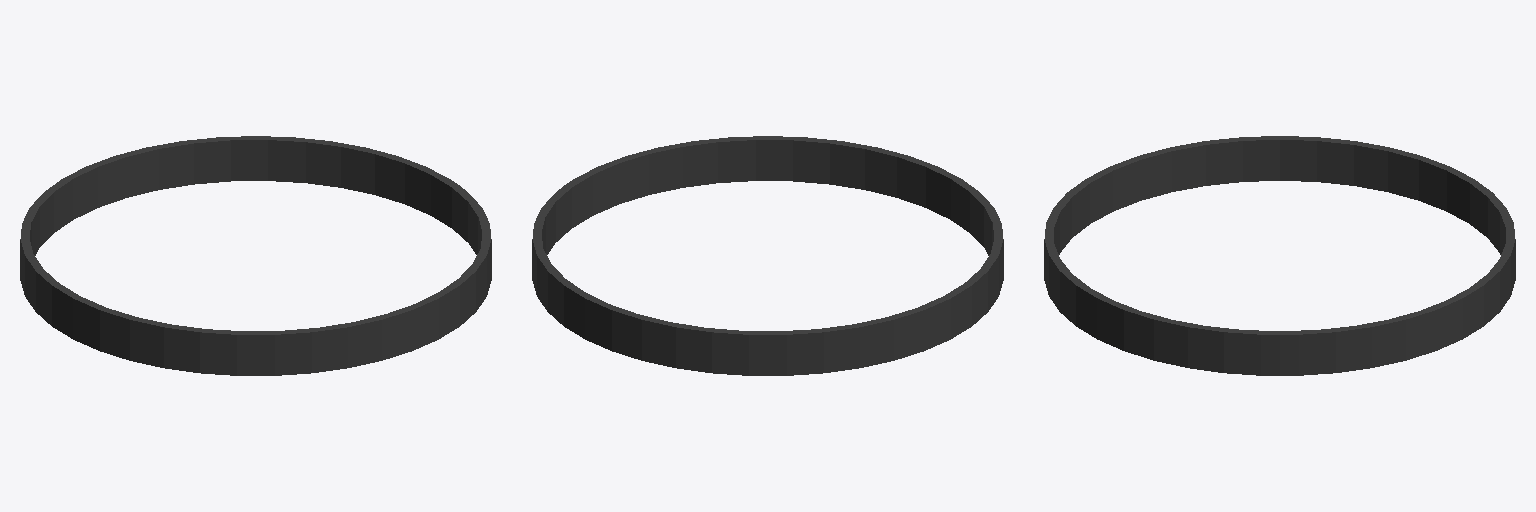
URDF robot description (part1):
<?xml version="1.0" encoding="utf-8"?>
<!-- This URDF was automatically created by SolidWorks to URDF Exporter! Originally created by [author] ([email redacted])
     Commit Version: 1.5.1-0-g916b5db  Build Version: 1.5.7152.31018
     For more information, please see http://wiki.ros.org/sw_urdf_exporter -->
<robot name="part1">
  <link name="ring">
  <contact>
      <lateral_friction value="0.15"/>
      <angular_friction value="0.1"/>
  </contact>
    <inertial>
      <origin
        xyz="0 0.005"
        rpy="0 0 0" />
      <mass value="0.019132" />
      <inertia
        ixx="9.8734E-05"
        ixy="0"
        ixz="0"
        iyy="9.8734E-05"
        iyz="0"
        izz="0.00019715" />
    </inertial>
    <visual>
      <origin
        xyz="0 0 0"
        rpy="0 0 0" />
      <geometry>
        <mesh
          filename="../meshes/20mm_ring.STL" scale="0.93 0.93 0.93" />
      </geometry>
      <material
        name="">
        <color
          rgba="0.298039215686275 0.298039215686275 0.298039215686275 1" />
      </material>
    </visual>
    <collision>
      <origin
        xyz="0 0 0"
        rpy="0 0 0" />
      <geometry>
        <mesh
          filename="../meshes/20mm_ring.obj" scale="1 1 1" />
      </geometry>
    </collision>
  </link>
</robot>

--- Facts derived from the render (not from the file) ---
The picture shows the robot from 3 angles, left to right: view 1: azimuth 30°, elevation 25°; view 2: azimuth 150°, elevation 25°; view 3: azimuth 270°, elevation 25°; orthographic projection.
Model part1 with 1 links and 0 joints (none), rooted at ring, posed all joints at 0.
Visible links, largest first — view 1: ring; view 2: ring; view 3: ring.
Link boxes in pixels (x1,y1,x2,y2): ring: (20, 136, 491, 375); ring: (532, 136, 1003, 375); ring: (1044, 136, 1515, 375).
Bounding box of the posed robot: 0.1934 × 0.1933 × 0.0186 m (x, y, z).
Meshes: 1 distinct files referenced, 1 mesh visuals loaded (1 binary STL).